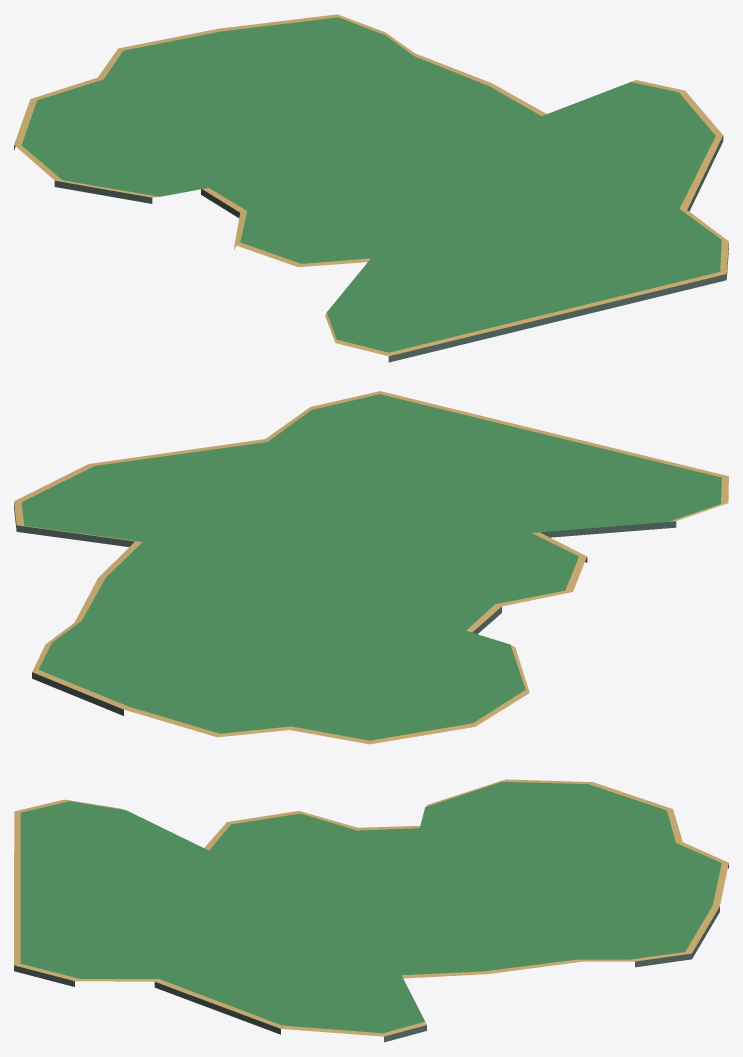
The model's file is island.glb.
The picture shows the model from 3 angles, top to bottom: view 1: azimuth 30°, elevation 25°; view 2: azimuth 150°, elevation 25°; view 3: azimuth 270°, elevation 25°; orthographic projection. The views are drawn at different scales.
Visible parts, largest first — view 1: IslandTop, SandShore, CliffSides; view 2: IslandTop, SandShore, CliffSides; view 3: IslandTop, SandShore, CliffSides.
Part boxes in pixels (bbox=[...]): IslandTop: bbox=[21, 17, 721, 352]; SandShore: bbox=[14, 14, 728, 356]; CliffSides: bbox=[14, 135, 728, 362]; IslandTop: bbox=[21, 394, 721, 740]; SandShore: bbox=[14, 391, 728, 744]; CliffSides: bbox=[14, 503, 676, 715]; IslandTop: bbox=[20, 782, 721, 1033]; SandShore: bbox=[14, 779, 728, 1036]; CliffSides: bbox=[14, 864, 728, 1042].
Size of the model in its own units: 332 by 3.72 by 390.
